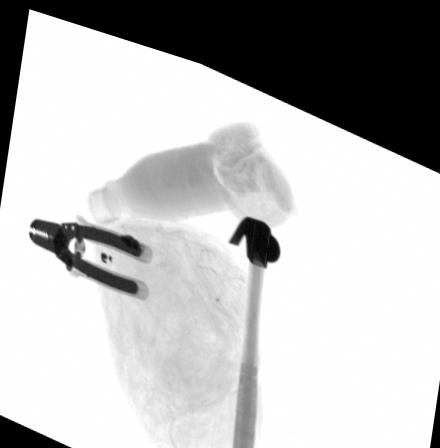Hammer: (228, 200, 282, 448)
Pliers: (29, 210, 153, 294)
